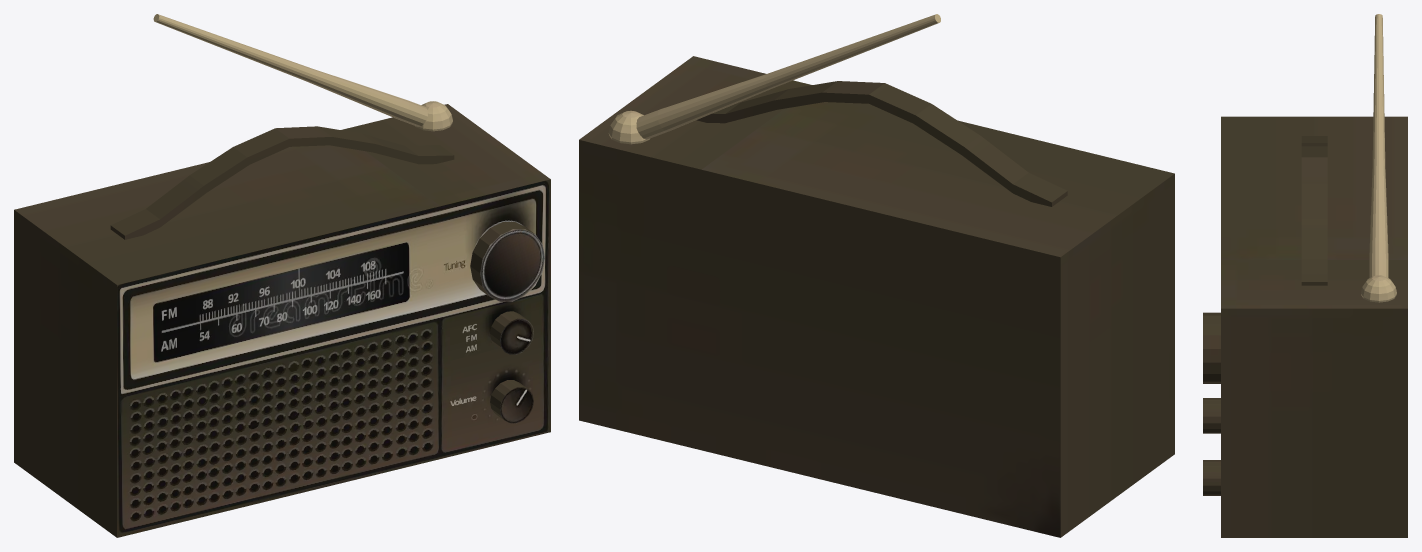
File: radio.fbx
3 views of the same model, side by side, from view 1: azimuth 30°, elevation 25°; view 2: azimuth 150°, elevation 25°; view 3: azimuth 270°, elevation 25° (orthographic). The views are drawn at different scales.
Visible parts, largest first — view 1: radio, antenna; view 2: radio, antenna; view 3: radio, antenna.
Boxes of the visible parts, x1,y1,x2,y2 form: radio: (14,104,550,537); antenna: (153,14,452,131); radio: (579,56,1174,537); antenna: (608,14,940,144); radio: (1203,116,1407,537); antenna: (1361,14,1396,302).
Size of the model in its own units: 415 by 392 by 187.
